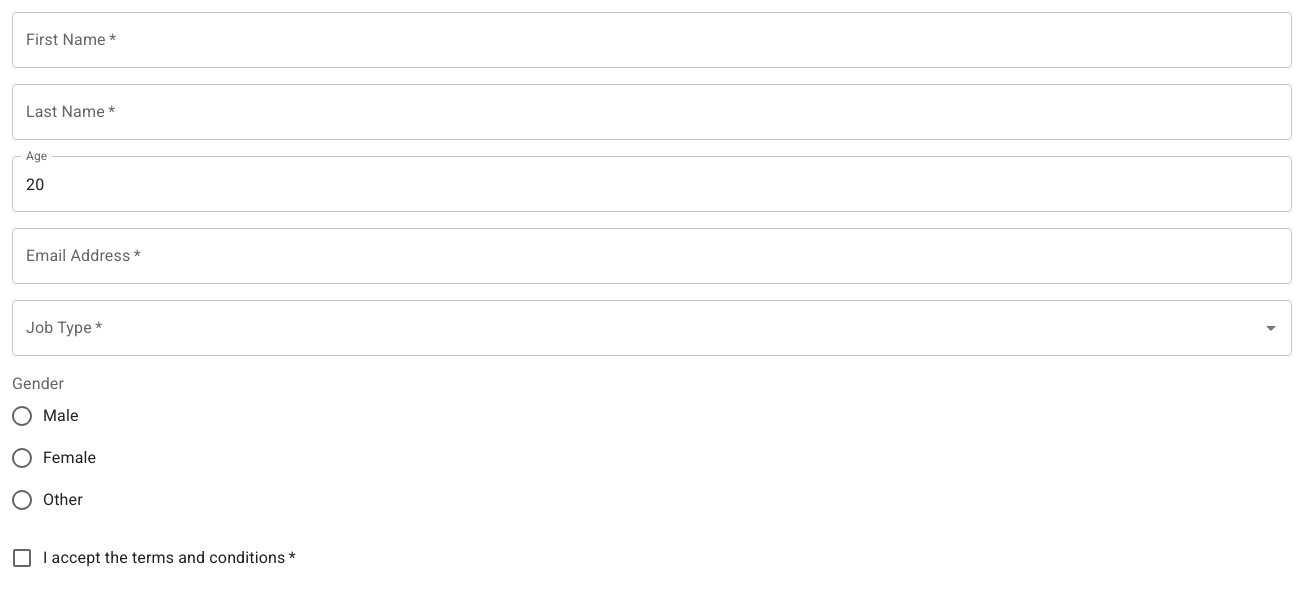
Test: SignUpForm › validates form text fields › First Name › is blank
// Fill in invalid values
Clear the field labelled "First Name". click: (652, 40)
box: [12,12,1292,68]
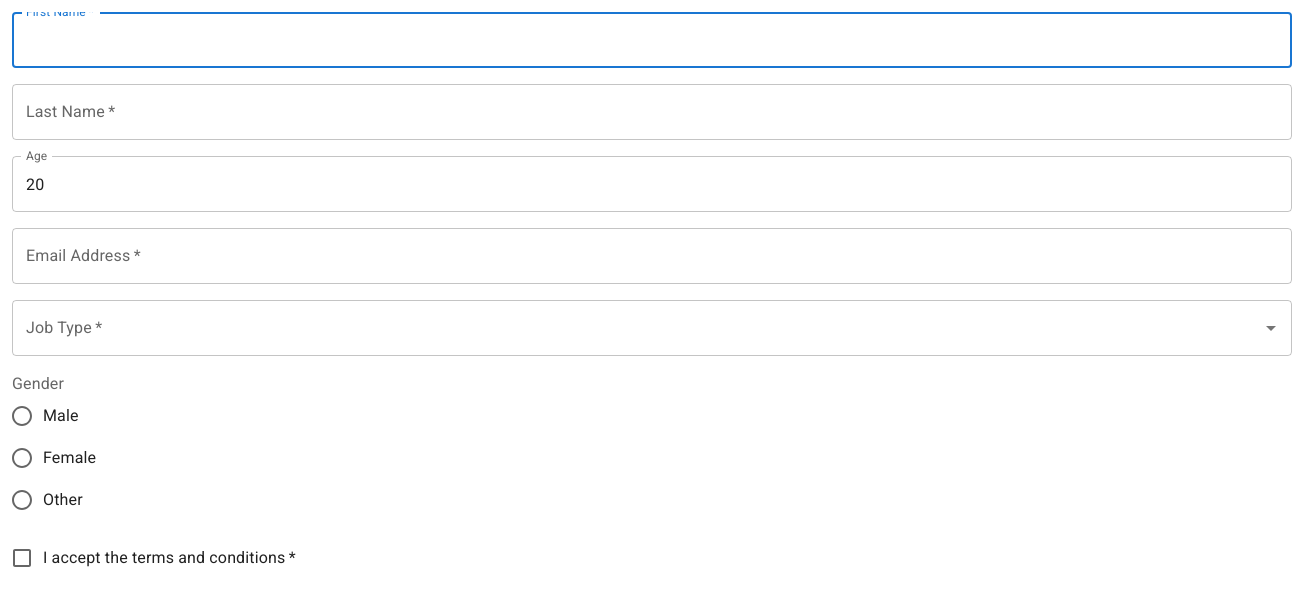
Press Tab
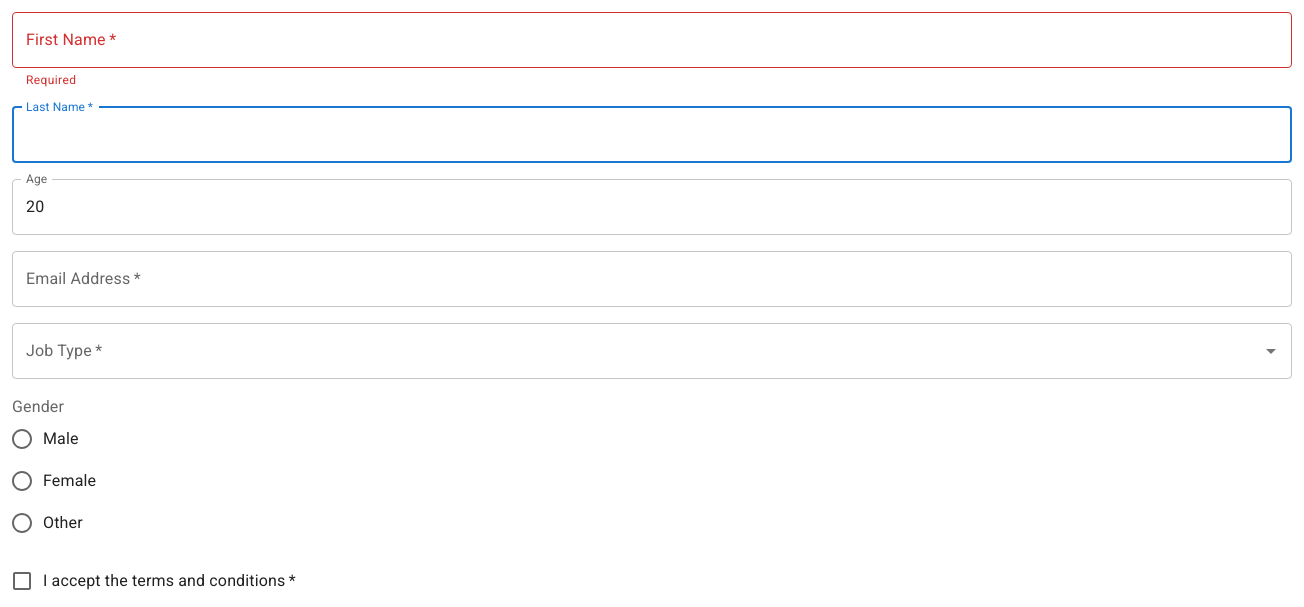
Check: the text "Required" is shown, box [26,73,76,87]
